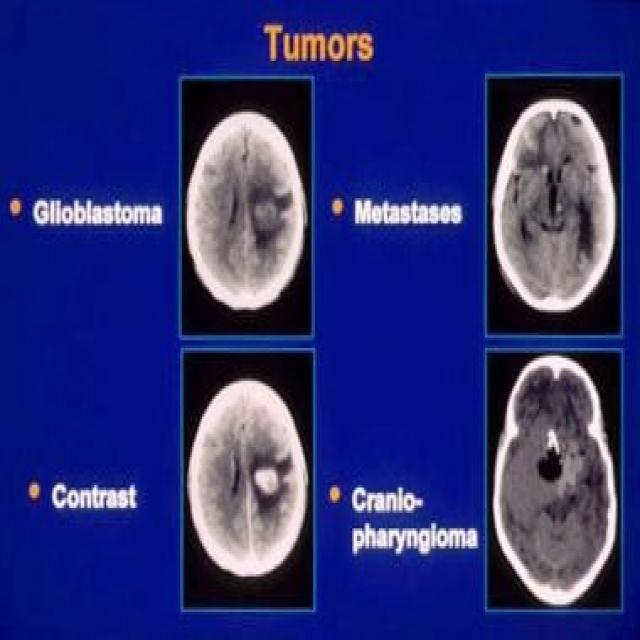Tumor: (255, 199, 290, 245), (253, 464, 283, 504), (538, 422, 564, 466)
